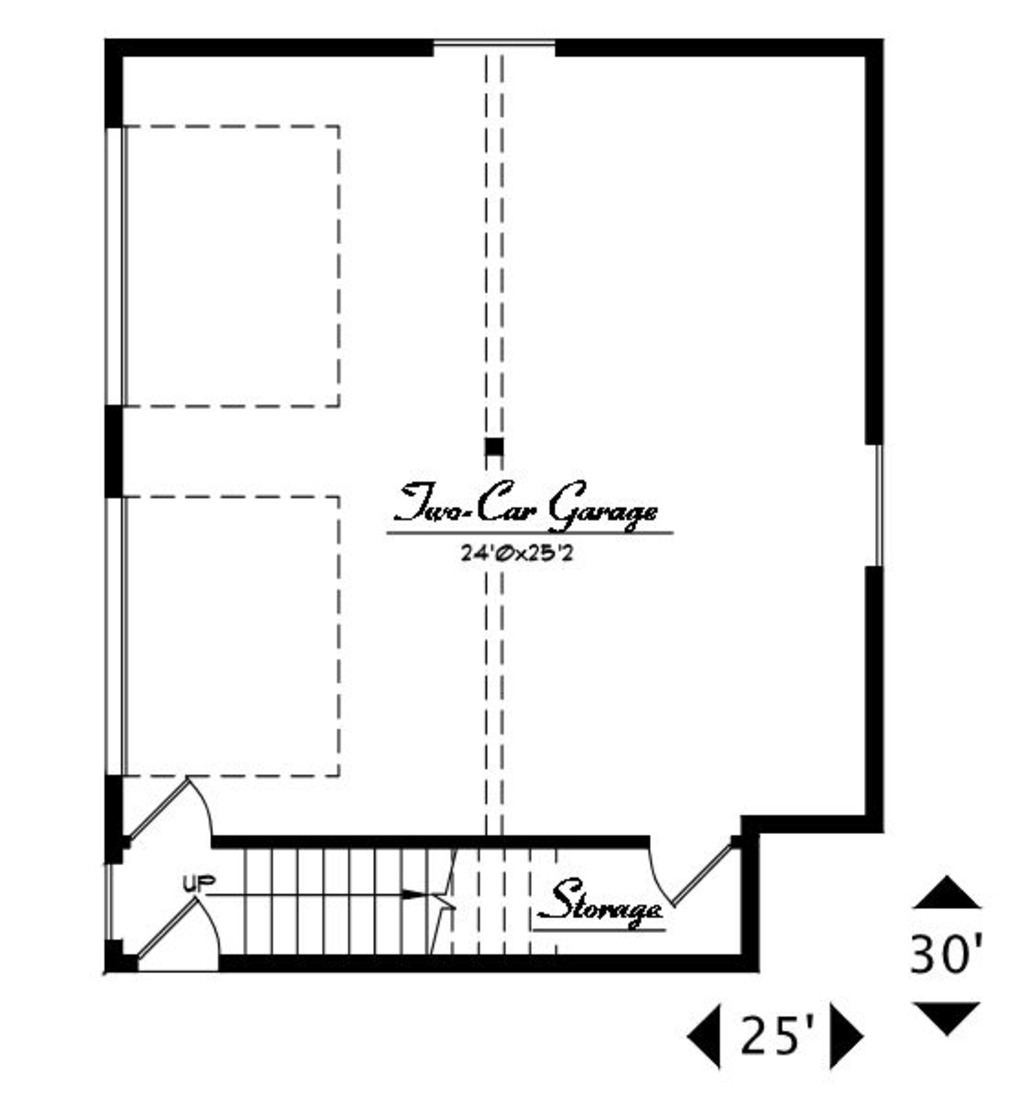door: (115, 774, 224, 849), (642, 834, 739, 907), (140, 895, 215, 969)
stairs: (220, 835, 649, 974)
window: (857, 444, 894, 567), (439, 34, 557, 64)
